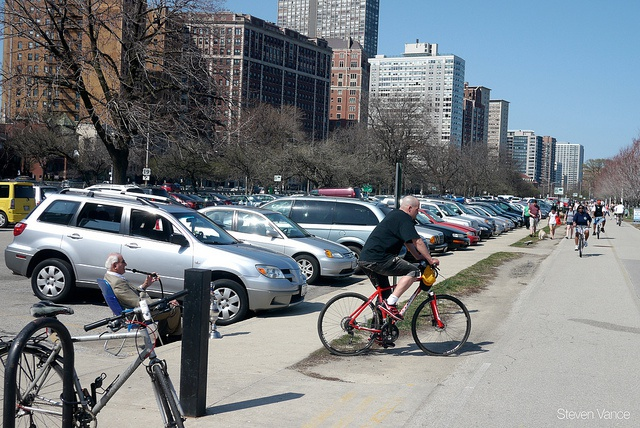non-vehicle: (2, 284, 193, 423), (318, 264, 472, 357), (573, 227, 591, 257), (592, 216, 603, 239), (616, 214, 621, 226)
